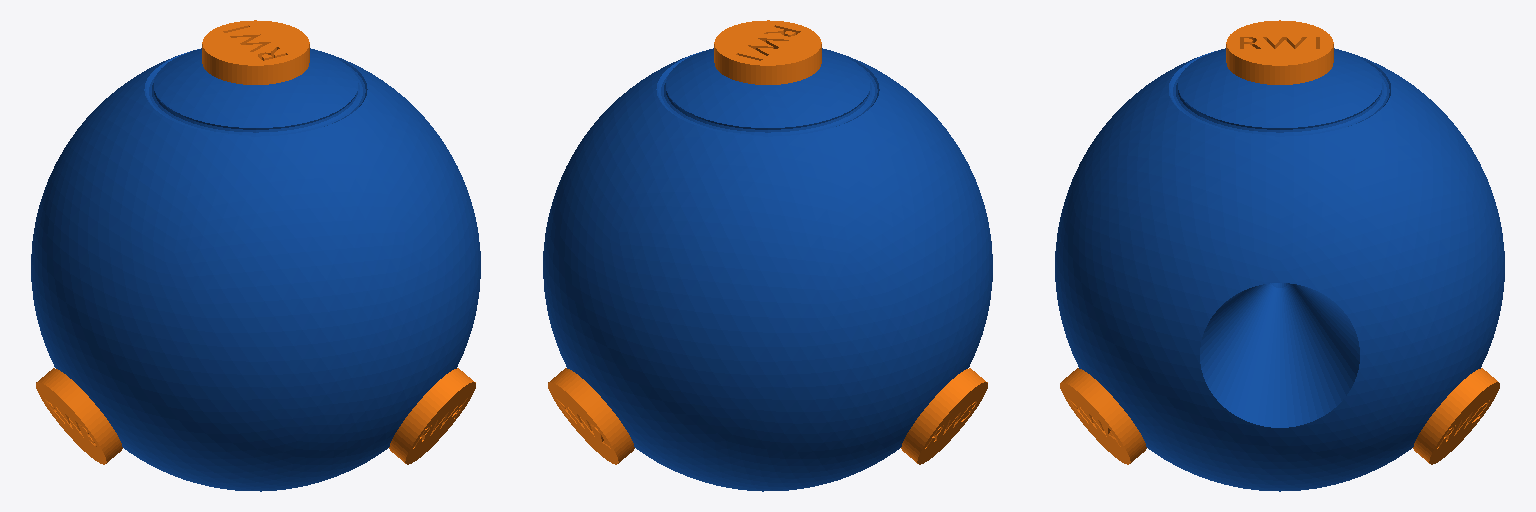
robot.urdf — spacecraft:
<?xml version="1.0" ?>
<robot name="spacecraft">

    <material name="industrial-blue">
        <color rgba="0.113725490196 0.3450980 0.65490196 1.0"/>
    </material>
    
    <material name="arches-blue">
        <color rgba="0.0 0.6235294117647059 0.8313725490196079 1.0"/>
    </material>
    
    <material name="heritage-orange">
        <color rgba="0.96078431 0.50980392 0.11764706 1.0"/>
    </material>
    
    
    <link name="bus" concave="yes">
        <visual>
            <geometry>
                <mesh filename="spacecraft.stl" scale="1.0 1.0 1.0"/>
            </geometry>
            <material name="industrial-blue"/>
        </visual>
        <collision concave="yes">
            <geometry>
                <mesh filename="spacecraft.stl" scale="1.0 1.0 1.0"/>
            </geometry>
        </collision>
        <inertial>
            <origin rpy="0.0 0.0 0.0" xyz="0.0 0.0 0.0"/>
            <mass value="6.0"/>
            <inertia ixx="10.0" ixy="0.0" ixz="0.0" iyy="10.0" iyz="0.0" izz="16.0"/>
        </inertial>
    </link>
    
    <link name="wheel_1" concave="yes">
        <visual>
            <geometry>
                <mesh filename="rw1.stl" scale="0.5 0.5 0.2"/>
            </geometry>
            <material name="heritage-orange"/>
        </visual>
        <collision concave="yes">
            <geometry>
                <mesh filename="rw1.stl" scale="0.5 0.5 0.2"/>
            </geometry>
        </collision>
        <inertial>
            <origin rpy="0.0 0.0 0.0" xyz="0.0 0.0 0.0"/>
            <mass value="1.0"/>
            <inertia ixx="0.075" ixy="0.0" ixz="0.0" iyy="0.075" iyz="0.0" izz="0.125"/>
        </inertial>
    </link>
    
    <link name="wheel_2" concave="yes">
        <visual>
            <geometry>
                <mesh filename="rw2.stl" scale="0.5 0.5 0.2"/>
            </geometry>
            <material name="heritage-orange"/>
        </visual>
        <collision concave="yes">
            <geometry>
                <mesh filename="rw2.stl" scale="0.5 0.5 0.2"/>
            </geometry>
        </collision>
        <inertial>
            <origin rpy="0.0 0.0 0.0" xyz="0.0 0.0 0.0"/>
            <mass value="1.0"/>
            <inertia ixx="0.075" ixy="0.0" ixz="0.0" iyy="0.075" iyz="0.0" izz="0.125"/>
        </inertial>
    </link>
    
    <link name="wheel_3" concave="yes">
        <visual>
            <geometry>
                <mesh filename="rw3.stl" scale="0.5 0.5 0.2"/>
            </geometry>
            <material name="heritage-orange"/>
        </visual>
        <collision concave="yes">
            <geometry>
                <mesh filename="rw3.stl" scale="0.5 0.5 0.2"/>
            </geometry>
        </collision>
        <inertial>
            <origin rpy="0.0 0.0 0.0" xyz="0.0 0.0 0.0"/>
            <mass value="1.0"/>
            <inertia ixx="0.075" ixy="0.0" ixz="0.0" iyy="0.075" iyz="0.0" izz="0.125"/>
        </inertial>
    </link>
    
    <link name="wheel_4" concave="yes">
        <visual>
            <geometry>
                <mesh filename="rw4.stl" scale="0.5 0.5 0.2"/>
            </geometry>
            <material name="heritage-orange"/>
        </visual>
        <collision concave="yes">
            <geometry>
                <mesh filename="rw4.stl" scale="0.5 0.5 0.2"/>
            </geometry>
        </collision>
        <inertial>
            <origin rpy="0.0 0.0 0.0" xyz="0.0 0.0 0.0"/>
            <mass value="1.0"/>
            <inertia ixx="0.075" ixy="0.0" ixz="0.0" iyy="0.075" iyz="0.0" izz="0.125"/>
        </inertial>
    </link>
    
    
    <joint name="bus_to_wheel_1" type="continuous">
        <parent link="bus"/>
        <child link="wheel_1"/>
        <origin xyz="1.3471114790620887e-16 0.0 2.2" rpy="0.0 0.0 1.5707963267948966"/>
        <axis xyz="0.0 0.0 1.0"/>
    </joint>
    
    <joint name="bus_to_wheel_2" type="continuous">
        <parent link="bus"/>
        <child link="wheel_2"/>
        <origin xyz="0.9526279441628829 1.65 -1.1" rpy="2.0943951023931953 0.0 2.617993877991494"/>
        <axis xyz="0.0 0.0 1.0"/>
    </joint>
    
    <joint name="bus_to_wheel_3" type="continuous">
        <parent link="bus"/>
        <child link="wheel_3"/>
        <origin xyz="-1.9052558883257653 2.3332655251947956e-16 -1.1" rpy="2.0943951023931953 0.0 4.71238898038469"/>
        <axis xyz="0.0 0.0 1.0"/>
    </joint>
    
    <joint name="bus_to_wheel_4" type="continuous">
        <parent link="bus"/>
        <child link="wheel_4"/>
        <origin xyz="0.9526279441628829 -1.65 -1.1" rpy="2.0943951023931953 0.0 6.806784082777885"/>
        <axis xyz="0.0 0.0 1.0"/>
    </joint>
    
    
</robot>

--- Render facts (derived) ---
3 views of the same robot in one strip: view 1: azimuth 30°, elevation 25°; view 2: azimuth 150°, elevation 25°; view 3: azimuth 270°, elevation 25° (orthographic).
Robot: spacecraft — 5 links, 4 joints (4 continuous); root link bus; default pose: every joint at zero.
Links seen in each view (by area): view 1: bus, wheel_1, wheel_3, wheel_4; view 2: bus, wheel_1, wheel_2, wheel_3; view 3: bus, wheel_1, wheel_2, wheel_4.
Boxes of the visible links, x1=… form: bus: x1=31, y1=48, x2=480, y2=491; wheel_1: x1=202, y1=20, x2=309, y2=84; wheel_3: x1=36, y1=368, x2=122, y2=464; wheel_4: x1=389, y1=368, x2=475, y2=464; bus: x1=543, y1=48, x2=992, y2=491; wheel_1: x1=714, y1=20, x2=821, y2=84; wheel_2: x1=548, y1=368, x2=634, y2=464; wheel_3: x1=901, y1=368, x2=987, y2=464; bus: x1=1055, y1=48, x2=1504, y2=491; wheel_1: x1=1226, y1=20, x2=1333, y2=84; wheel_2: x1=1413, y1=368, x2=1499, y2=464; wheel_4: x1=1060, y1=368, x2=1146, y2=464.
Bounding box of the posed robot: 4.2 × 4.2 × 4.4 m (x, y, z).
Meshes: 5 distinct files referenced, 5 mesh visuals loaded (5 binary STL).